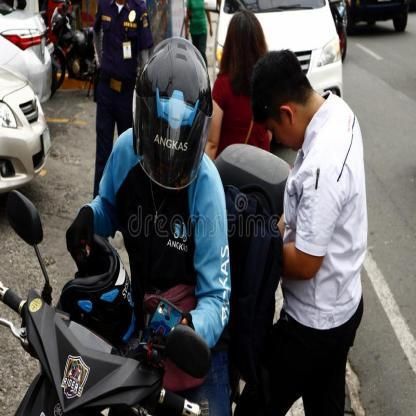helmet: (131, 37, 214, 199)
nohelmet: (250, 48, 326, 153), (223, 9, 267, 90)
